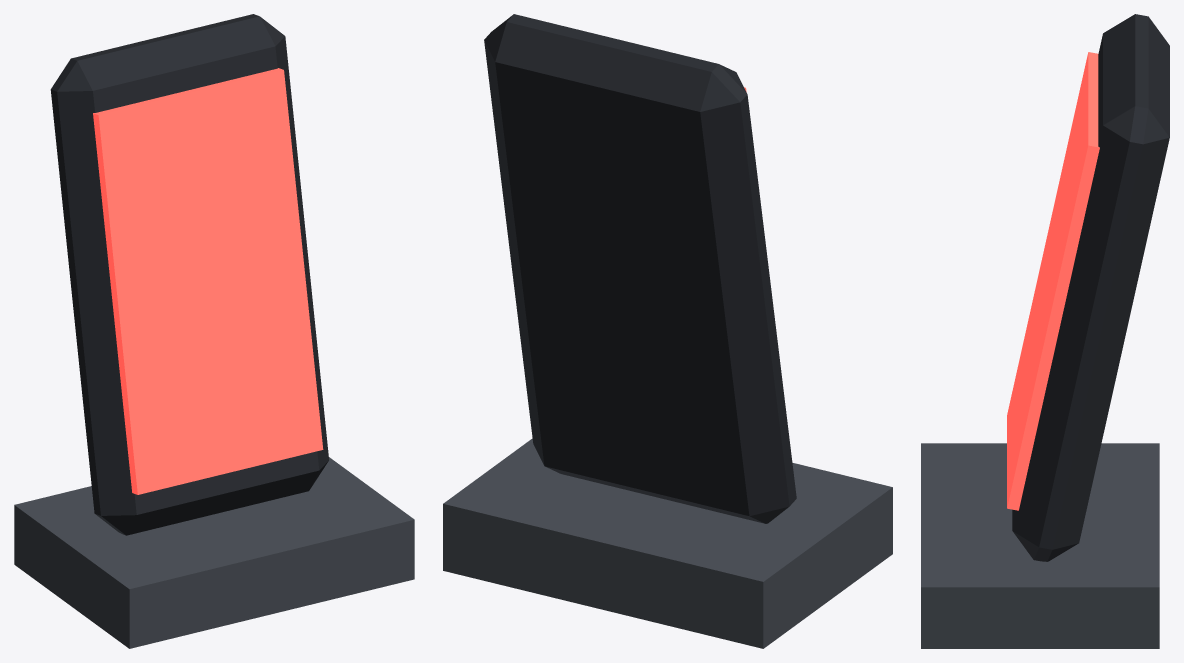
Rendered from prop_pomodoro_p0.glb.
3 views of the same model, side by side, from view 1: azimuth 30°, elevation 25°; view 2: azimuth 150°, elevation 25°; view 3: azimuth 270°, elevation 25° (orthographic). The views are drawn at different scales.
Parts seen in each view (by area): view 1: prop_pomodoro_p0_mesh; view 2: prop_pomodoro_p0_mesh; view 3: prop_pomodoro_p0_mesh.
Part boxes in pixels (box(x1,y1,x2,y2)): prop_pomodoro_p0_mesh: box(14, 14, 414, 648); prop_pomodoro_p0_mesh: box(443, 14, 892, 648); prop_pomodoro_p0_mesh: box(921, 14, 1169, 648).
Size of the model in its own units: 0.1 by 0.1674 by 0.073.
